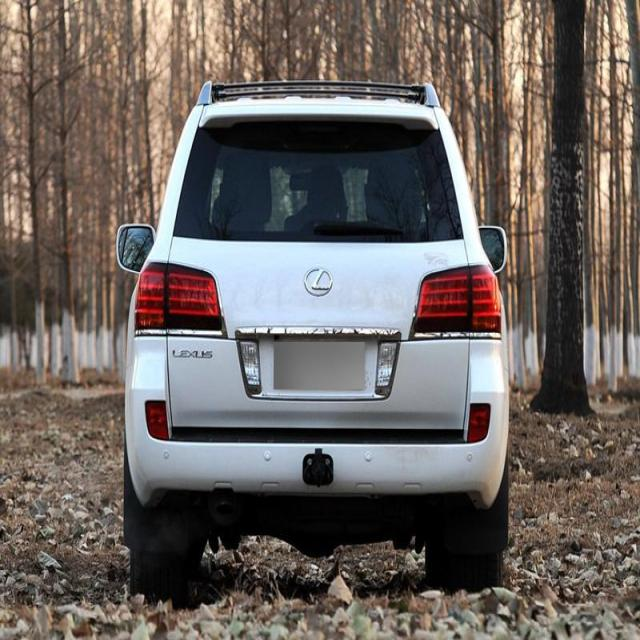back_glass: (173, 115, 463, 244)
back_left_side_light: (409, 265, 502, 343)
back_right_side_light: (131, 259, 227, 341)
front_left_side_mirror: (475, 224, 508, 273)
front_right_side_mirror: (114, 220, 158, 279)
rear_bumper: (126, 334, 508, 505)
